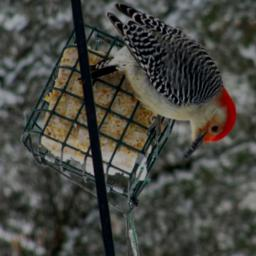Woodpecker: (78, 0, 240, 166)
